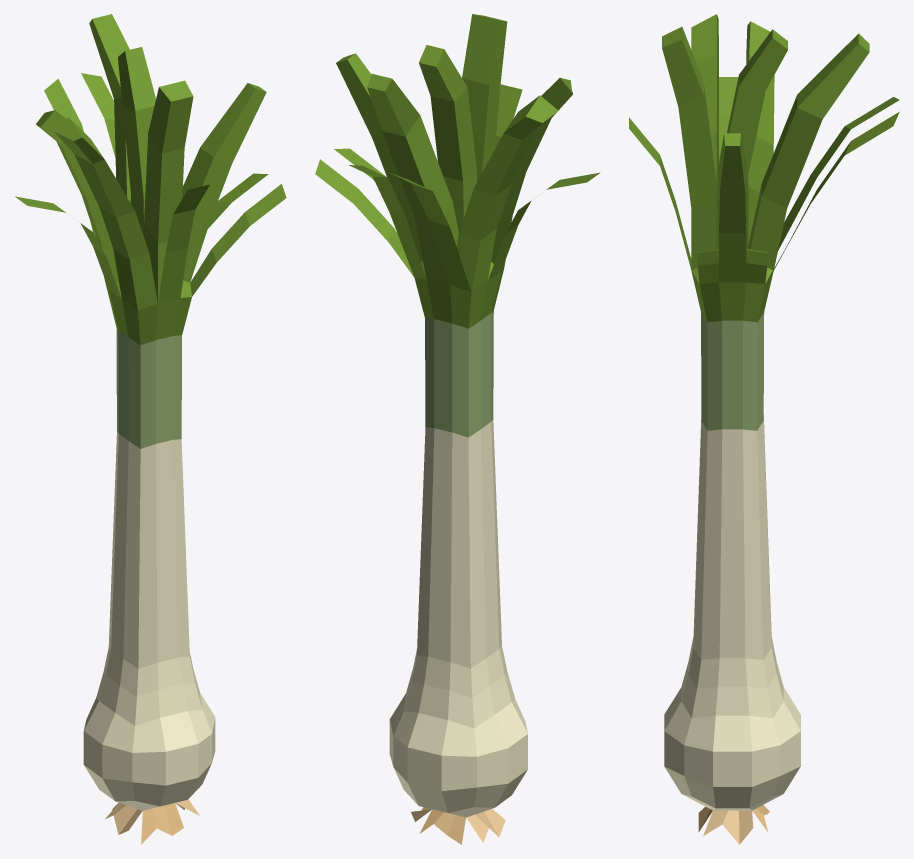
File: leek.glb
The picture shows the model from 3 angles, left to right: view 1: azimuth 30°, elevation 25°; view 2: azimuth 150°, elevation 25°; view 3: azimuth 270°, elevation 25°; orthographic projection. The views are drawn at different scales.
Parts seen in each view (by area): view 1: leek; view 2: leek; view 3: leek.
Boxes of the visible parts, <box> form: leek: <box>15,14,286,844</box>; leek: <box>315,14,600,844</box>; leek: <box>629,14,899,844</box>.
Size of the model in its own units: 1.24 by 3.56 by 1.09.
1 material, 1 textured.
